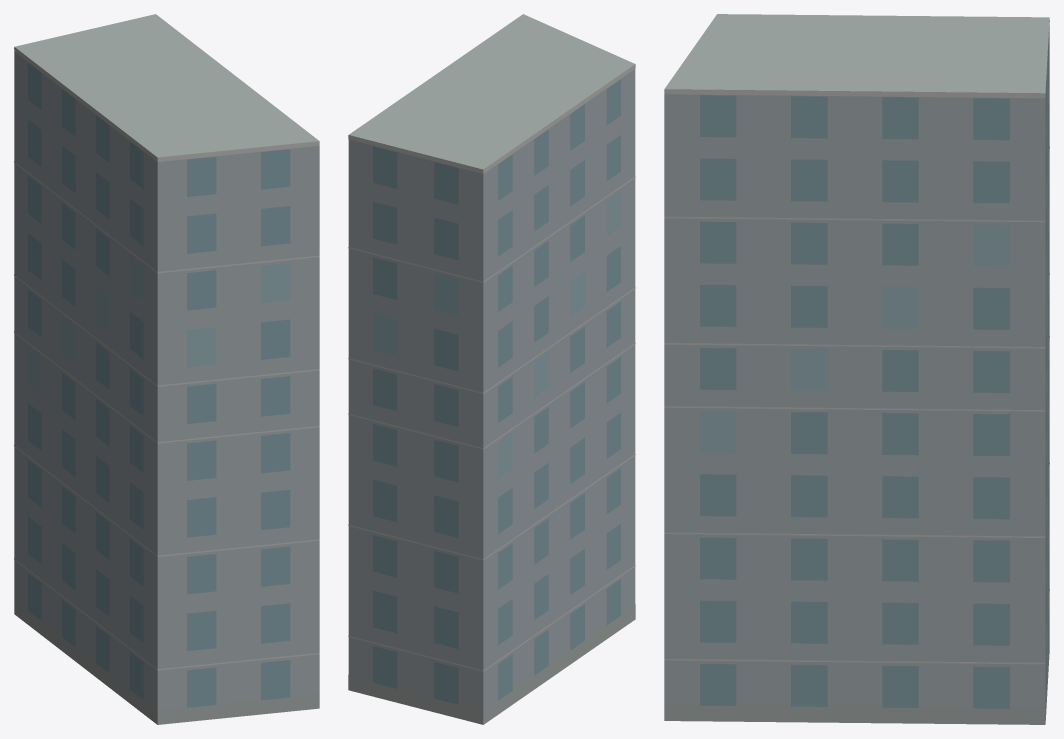
The model's file is survey-upis-32681822.glb.
The picture shows the model from 3 angles, left to right: view 1: azimuth 30°, elevation 25°; view 2: azimuth 150°, elevation 25°; view 3: azimuth 270°, elevation 25°; orthographic projection. The views are drawn at different scales.
Visible parts, largest first — view 1: survey-upis-32681822.tmp; view 2: survey-upis-32681822.tmp; view 3: survey-upis-32681822.tmp.
Part boxes in pixels (x1,y1,x2,y2): survey-upis-32681822.tmp: (14,14,319,724); survey-upis-32681822.tmp: (348,14,635,724); survey-upis-32681822.tmp: (664,14,1049,724).
Bounding box in the file's own units: 8.06 × 29.9 × 16.55.
